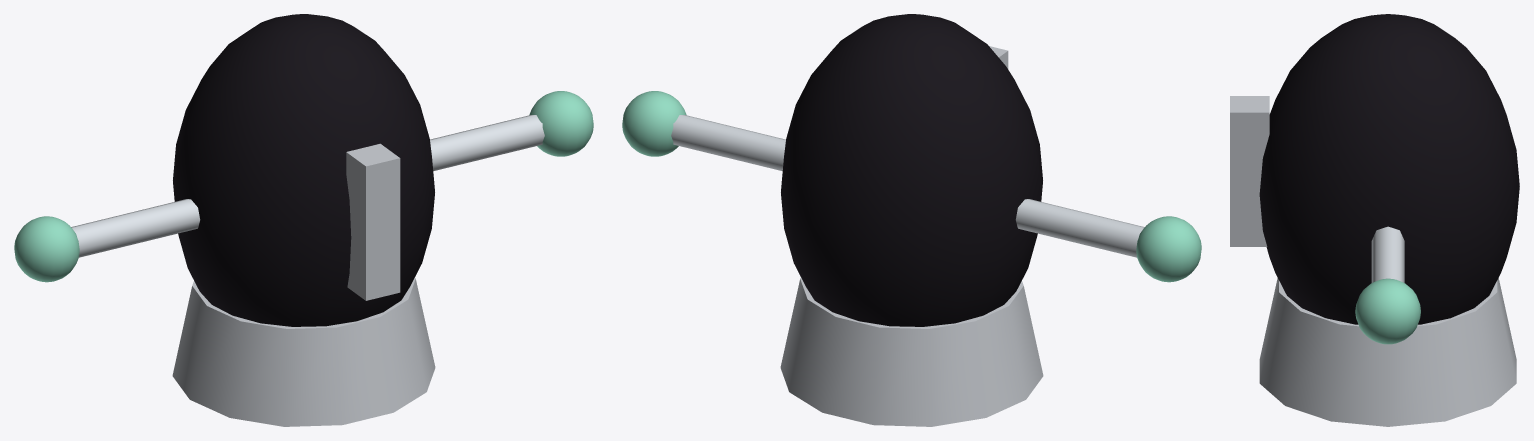
File: hairtop_m.glb
3 renders of one model, left to right at view 1: azimuth 30°, elevation 25°; view 2: azimuth 150°, elevation 25°; view 3: azimuth 270°, elevation 25°, orthographic.
Size of the model in its own units: 0.43 by 0.2516 by 0.1892.
